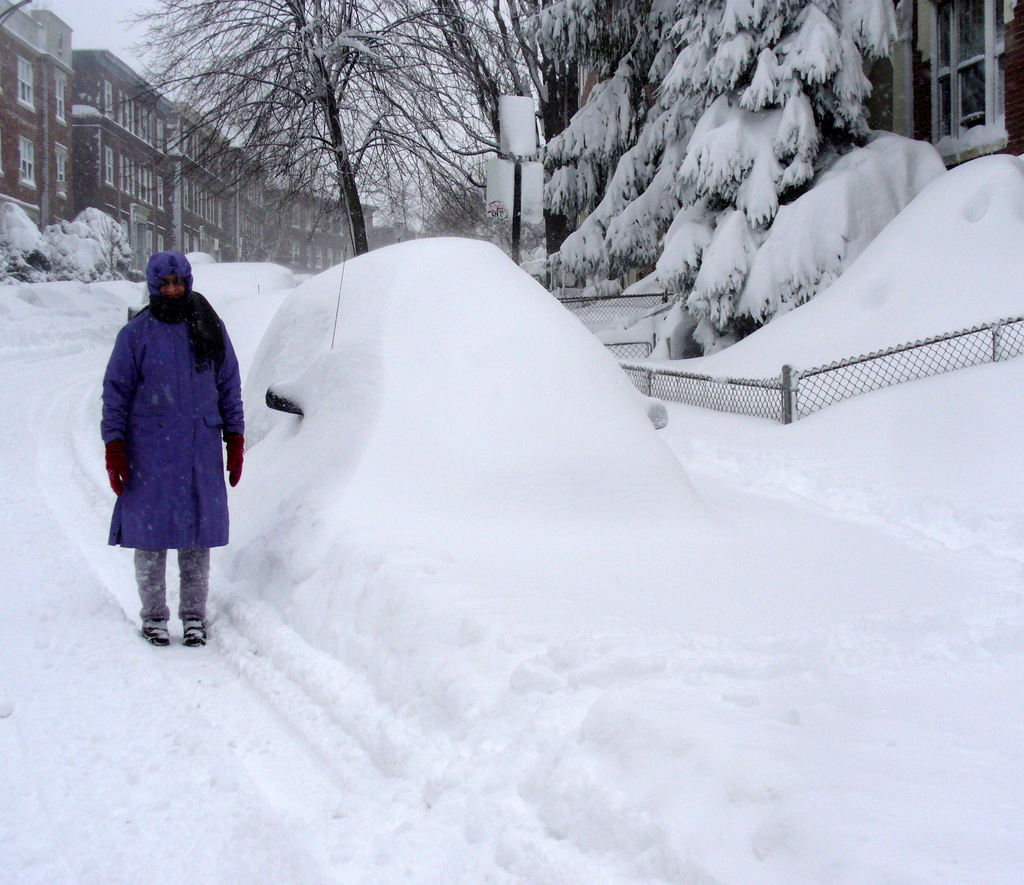Footwear: (180, 618, 209, 648), (145, 625, 169, 652)
